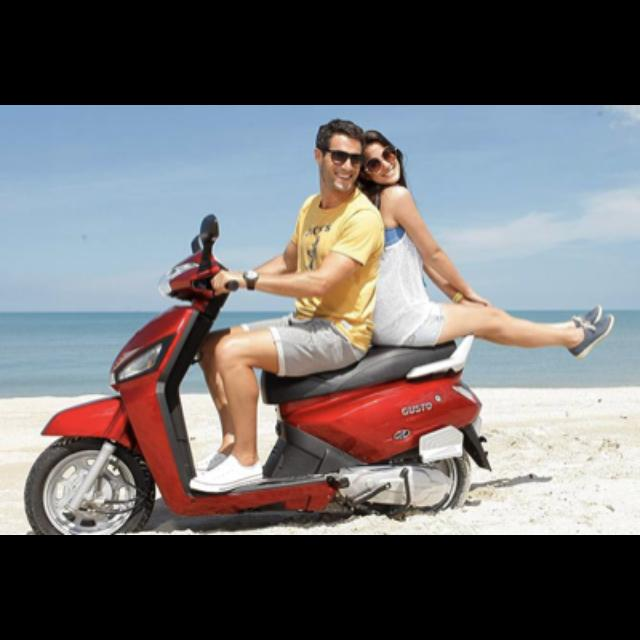Without Helmet: (308, 113, 362, 199), (362, 125, 400, 192)
